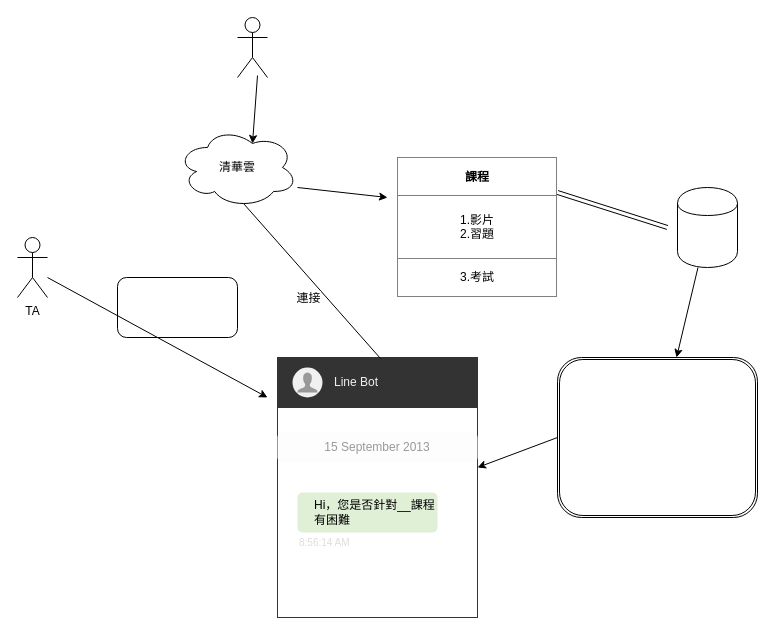
Some shapes in this 775 by 635 pixel diagram are drawn without their labels. The shapes that lost their labels are listed below. From the top down, each one's box as (x1, y1, x2, y2) in pixels, then its label:
(116, 276, 238, 338): 公告
(556, 356, 758, 518): 分析結果
